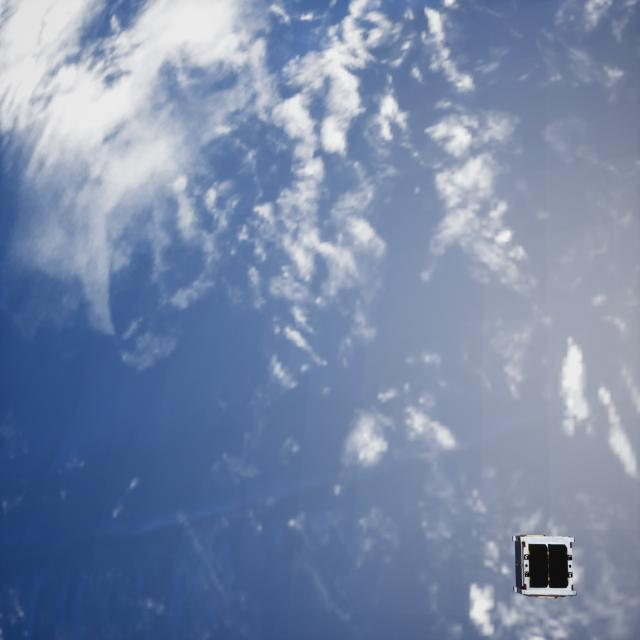medium_debris: (503, 528, 583, 597)
